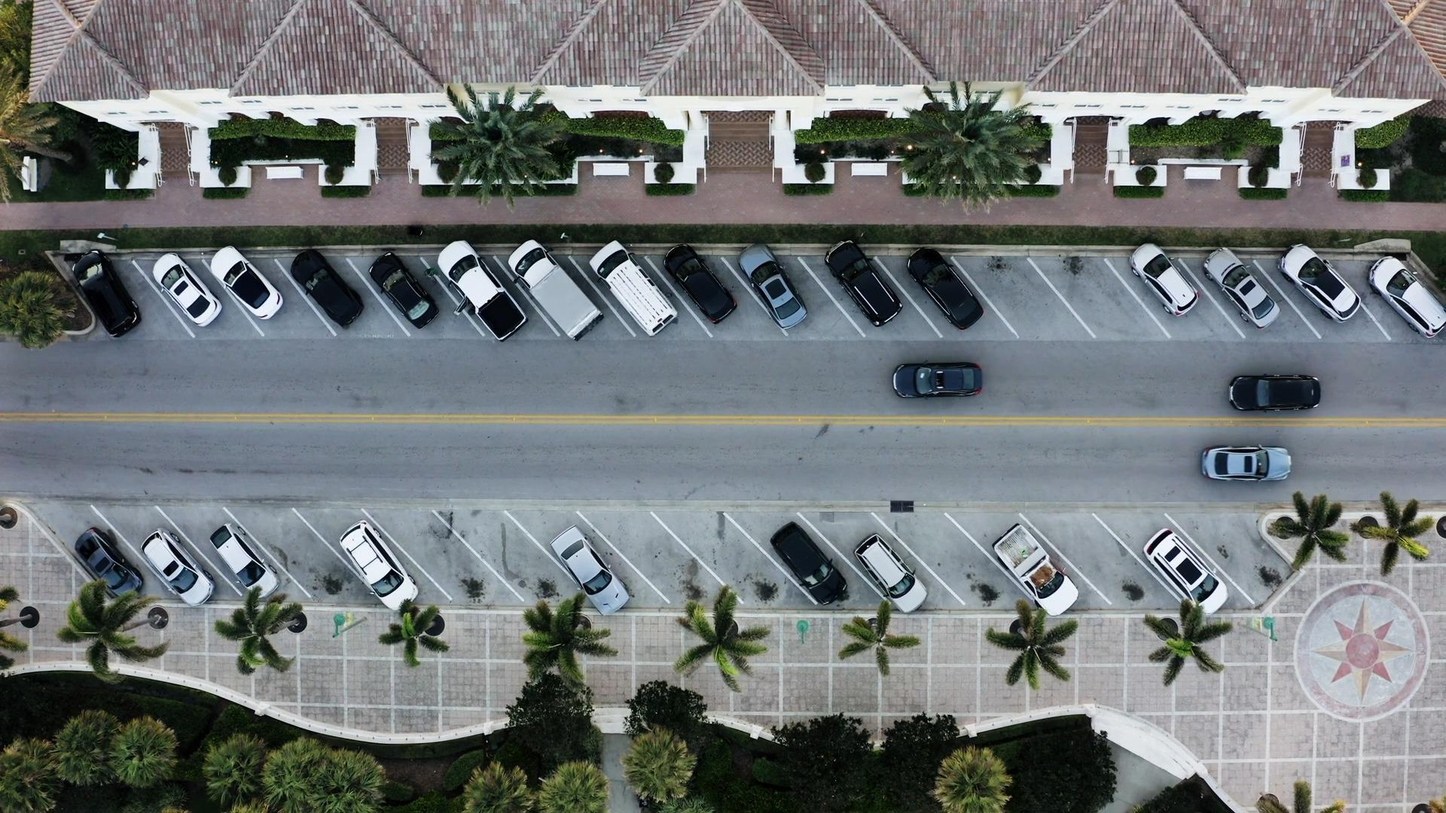car: (1215, 376, 1305, 416), (895, 361, 981, 399), (1200, 448, 1290, 483)
free: (630, 520, 708, 598), (1224, 513, 1302, 591), (402, 529, 480, 607), (492, 522, 570, 600), (1073, 524, 1151, 601), (696, 524, 774, 601), (996, 262, 1064, 343), (288, 525, 356, 601), (935, 524, 1000, 598), (1078, 291, 1169, 326)
occupied: (439, 239, 530, 341), (588, 240, 675, 336), (1143, 526, 1231, 613), (991, 520, 1071, 612), (339, 521, 420, 610), (552, 527, 632, 614), (1277, 243, 1363, 321), (66, 248, 142, 336), (769, 521, 848, 605), (824, 241, 897, 328), (906, 247, 982, 330), (657, 231, 735, 311), (1363, 257, 1441, 336), (1202, 248, 1279, 328), (124, 255, 201, 335), (359, 239, 436, 319), (290, 248, 365, 327), (366, 250, 440, 330), (139, 530, 216, 606), (739, 244, 807, 329), (208, 523, 282, 601), (213, 246, 286, 322), (1130, 243, 1200, 318), (73, 528, 145, 599)
